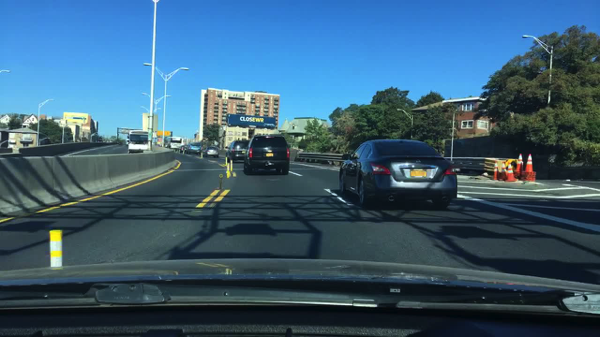bus: (128, 128, 152, 154), (170, 136, 184, 151), (156, 137, 164, 146)
car: (338, 140, 456, 210), (244, 134, 290, 175), (226, 140, 248, 162), (186, 143, 202, 156), (204, 146, 220, 158)
traffic sign: (141, 113, 159, 133)
